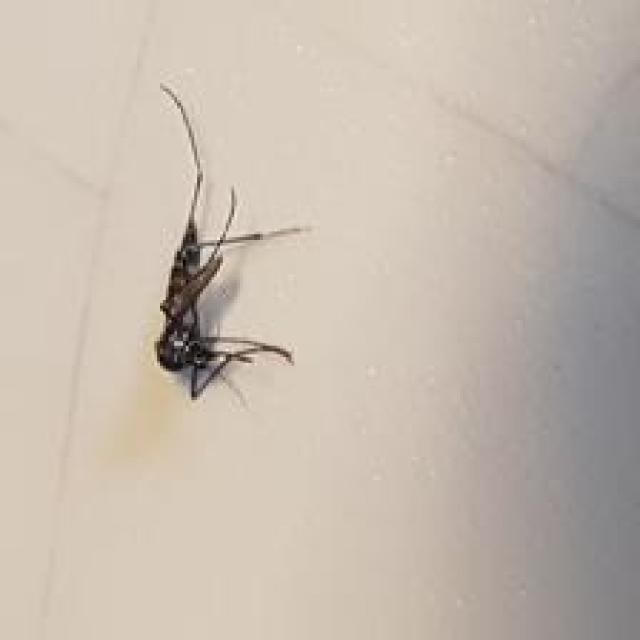Aedes albopictus: (153, 82, 310, 404)
